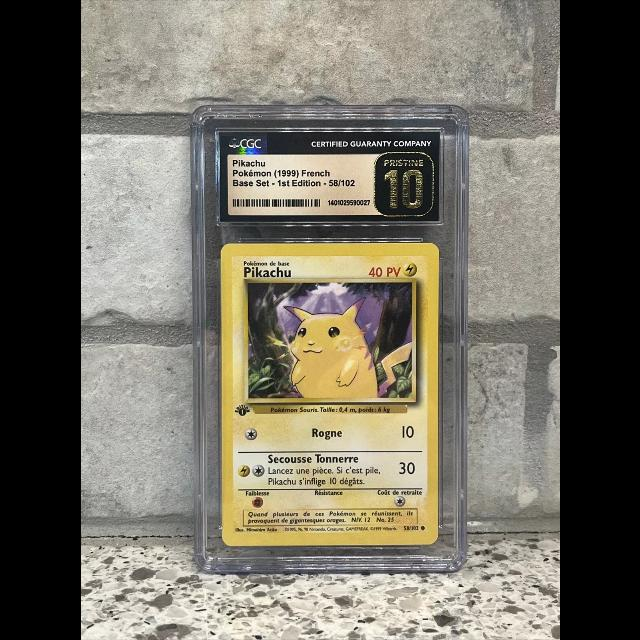card: (221, 243, 438, 546)
cgc_label: (218, 130, 440, 222)
cgc_slab: (191, 104, 471, 573)
